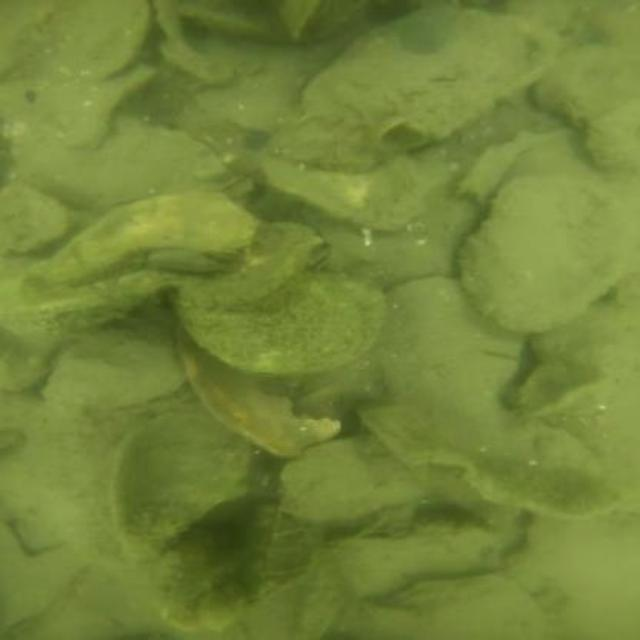Oyster-Closed: (301, 8, 564, 146), (0, 189, 262, 325), (359, 399, 620, 517), (461, 173, 630, 332), (177, 267, 388, 374), (286, 432, 518, 527), (22, 403, 150, 571), (177, 349, 340, 464), (50, 302, 188, 414), (180, 222, 332, 309), (367, 573, 552, 638), (585, 101, 631, 173), (147, 248, 229, 271)
